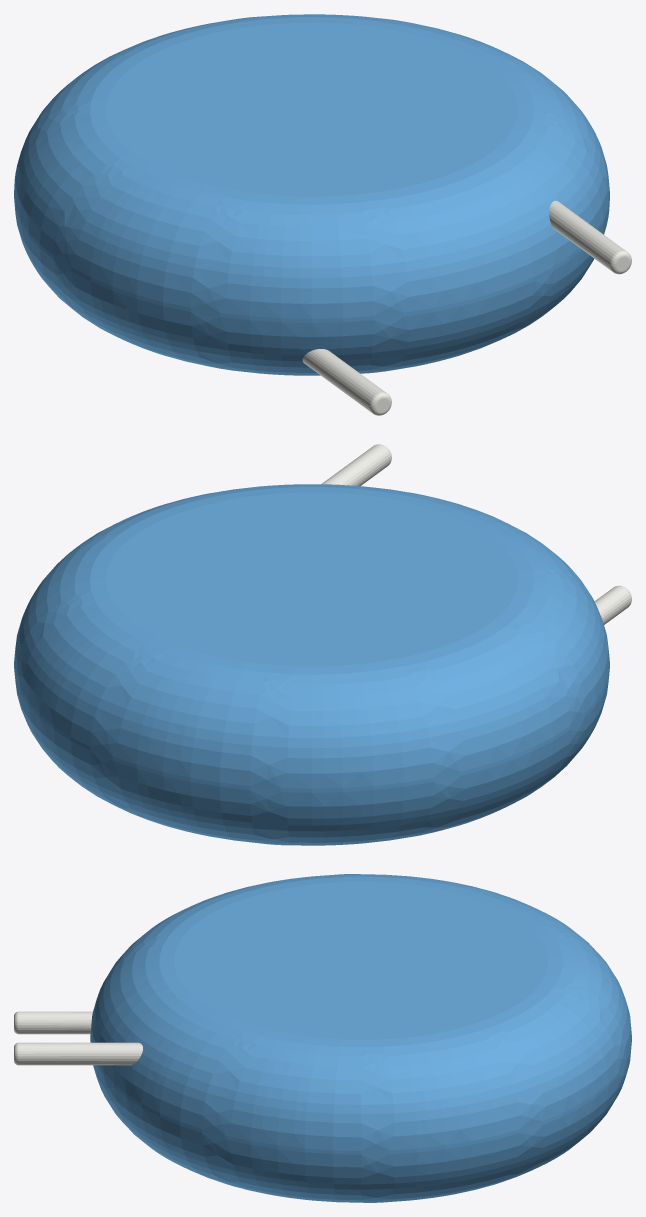
File: RV_Disc_D21.5mm_W6.8mm_P10mm.glb
3 views of the same model, one above another, from view 1: azimuth 30°, elevation 25°; view 2: azimuth 150°, elevation 25°; view 3: azimuth 270°, elevation 25° (orthographic). The views are drawn at different scales.
Visible parts, largest first — view 1: Shape_IndexedFaceSet.001, Shape_IndexedFaceSet.003, Shape_IndexedFaceSet.002, Shape_IndexedFaceSet, Shape_IndexedFaceSet.004, Shape_IndexedFaceSet.006; view 2: Shape_IndexedFaceSet.001, Shape_IndexedFaceSet.003, Shape_IndexedFaceSet.002, Shape_IndexedFaceSet, Shape_IndexedFaceSet.004, Shape_IndexedFaceSet.006; view 3: Shape_IndexedFaceSet.001, Shape_IndexedFaceSet.003, Shape_IndexedFaceSet.002, Shape_IndexedFaceSet.004, Shape_IndexedFaceSet, Shape_IndexedFaceSet.006.
Boxes of the visible parts, x1,y1,x2,y2 form: Shape_IndexedFaceSet.001: (14, 14, 609, 318); Shape_IndexedFaceSet.003: (106, 22, 517, 196); Shape_IndexedFaceSet.002: (14, 199, 609, 375); Shape_IndexedFaceSet: (14, 194, 609, 322); Shape_IndexedFaceSet.004: (549, 200, 625, 270); Shape_IndexedFaceSet.006: (302, 349, 386, 412); Shape_IndexedFaceSet.001: (14, 484, 609, 788); Shape_IndexedFaceSet.003: (106, 492, 517, 666); Shape_IndexedFaceSet.002: (14, 671, 609, 845); Shape_IndexedFaceSet: (14, 664, 609, 792); Shape_IndexedFaceSet.004: (321, 444, 391, 486); Shape_IndexedFaceSet.006: (594, 586, 631, 624); Shape_IndexedFaceSet.001: (90, 874, 631, 1150); Shape_IndexedFaceSet.003: (174, 881, 547, 1039); Shape_IndexedFaceSet.002: (93, 1044, 631, 1202); Shape_IndexedFaceSet.004: (18, 1042, 142, 1065); Shape_IndexedFaceSet: (90, 1038, 631, 1154); Shape_IndexedFaceSet.006: (18, 1011, 92, 1034).
Size of the model in its own units: 8.47 by 2.68 by 9.66.
